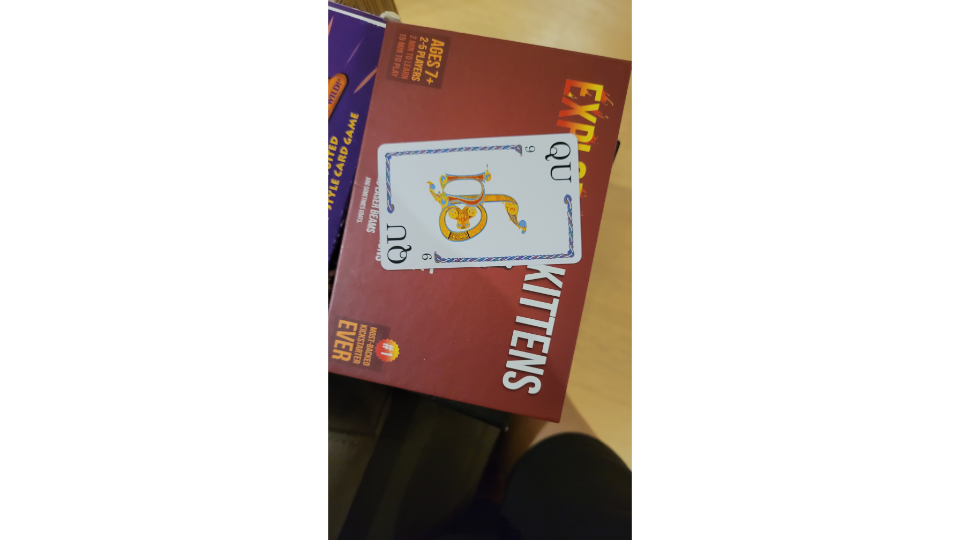QU: (375, 132, 588, 273)
